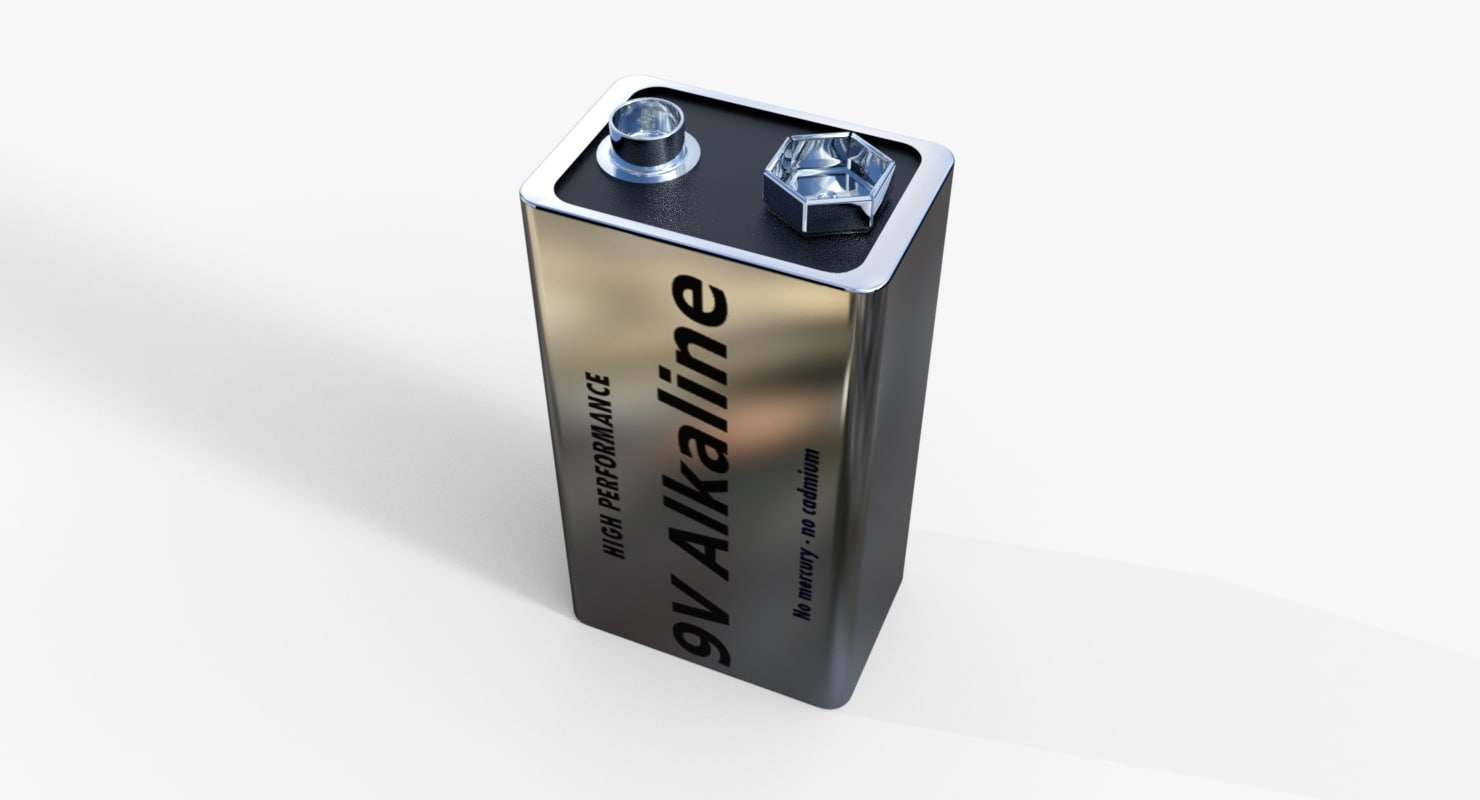9V: (516, 69, 966, 724)
